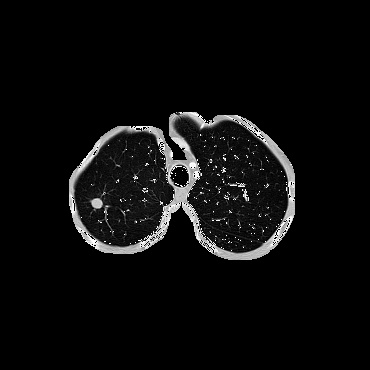PN: (91, 197, 103, 209)
